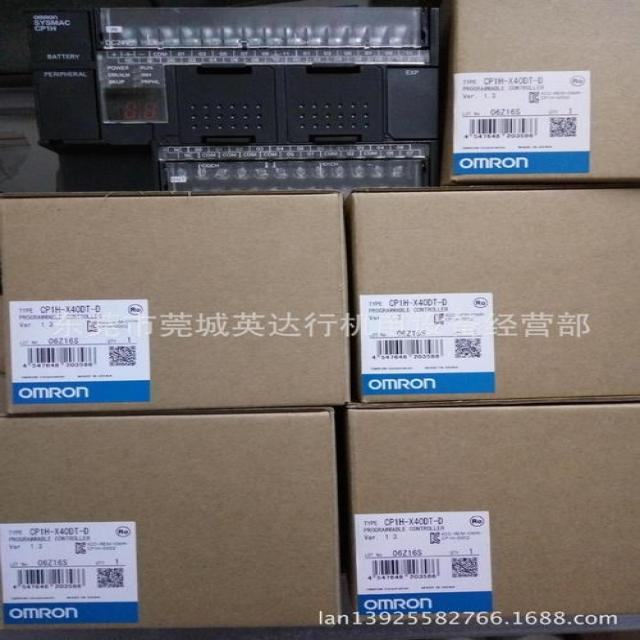box: (0, 188, 352, 417), (0, 406, 340, 629), (346, 403, 640, 624), (348, 185, 640, 403), (443, 0, 640, 185)
